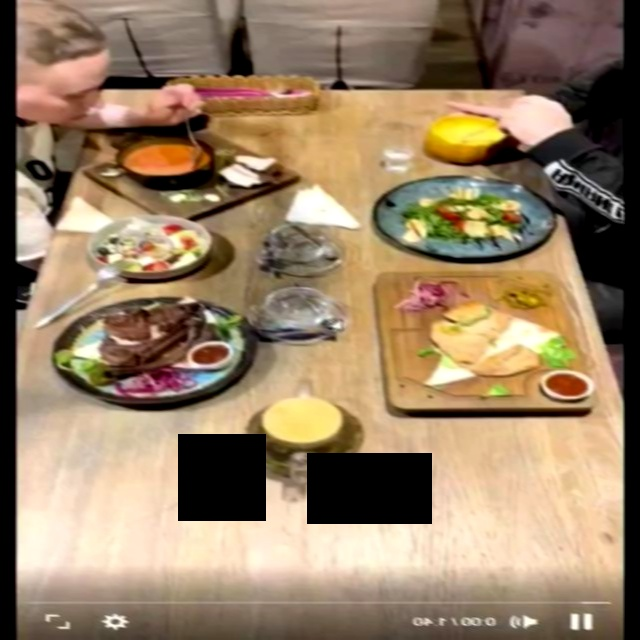meat: (378, 271, 591, 410), (50, 295, 261, 405)
salad: (375, 176, 560, 261), (85, 214, 213, 280)
soup: (84, 129, 305, 221), (425, 114, 512, 163)
tea: (230, 368, 380, 496)
